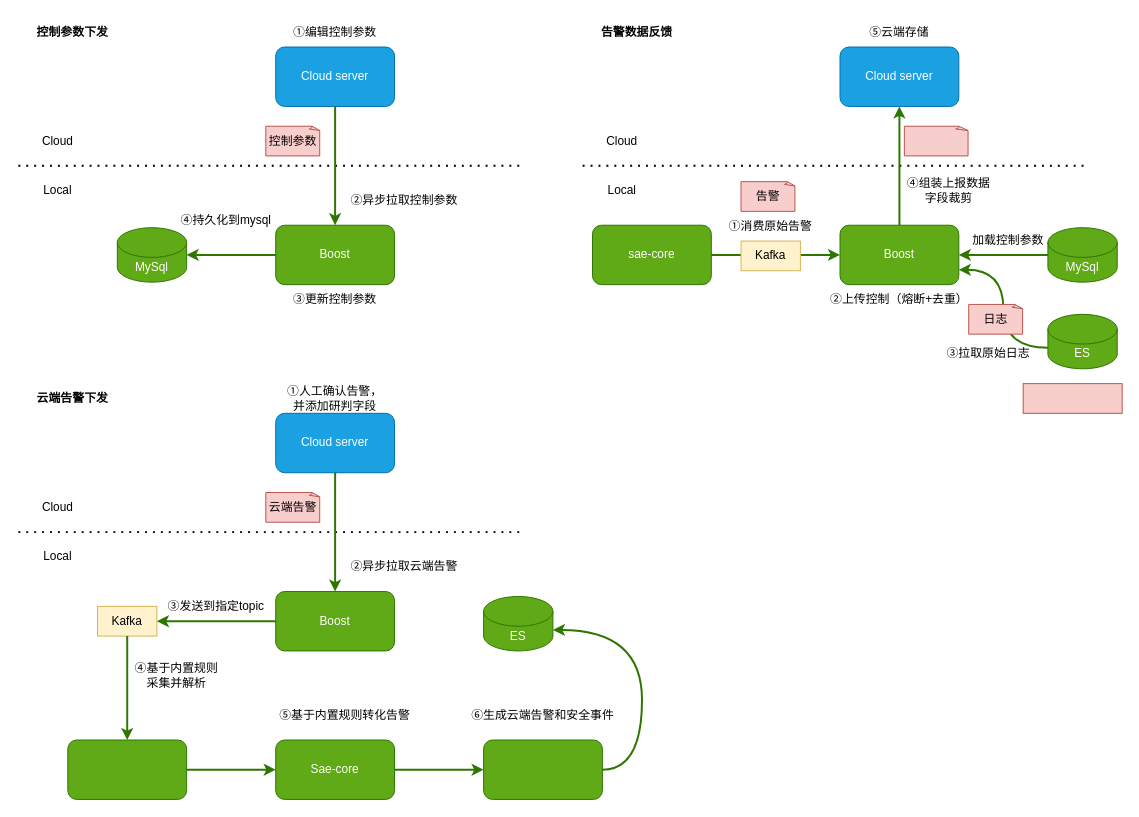
Image size: 1139x817. Some labels were removed from this diagram. The box of each missing label's shape, as (x1, y1, x2, y2) in pixels:
DV: (67, 739, 187, 799)
Incident: (483, 739, 602, 799)
告警+日志: (903, 125, 969, 156)
日志没有刷到ES怎么办？？: (1022, 383, 1122, 413)
